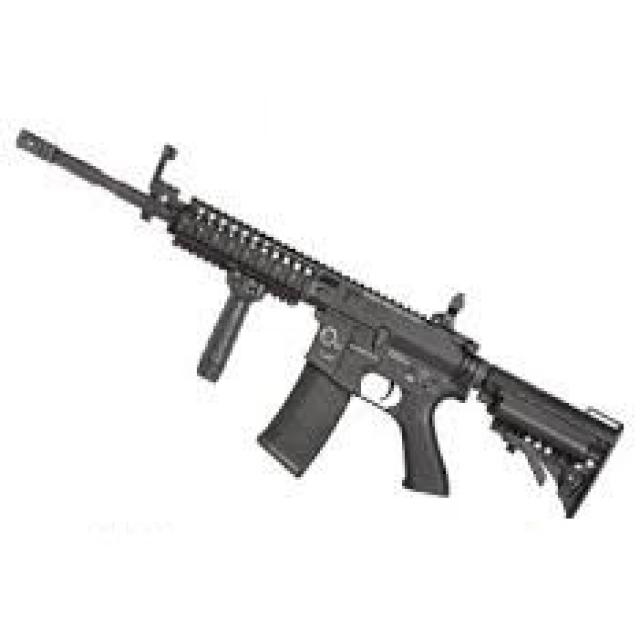rifle: (15, 125, 632, 524)
